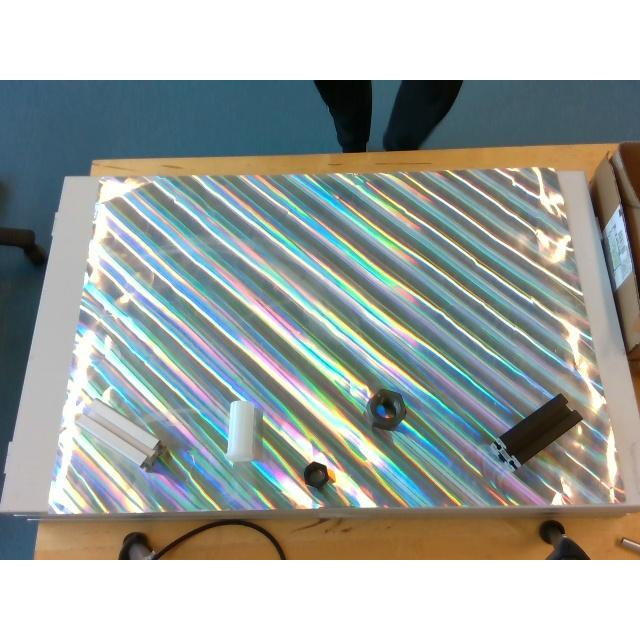M20: (304, 460, 330, 488)
M30: (366, 389, 406, 429)
S40_40_B: (491, 393, 582, 471)
S40_40_G: (77, 398, 166, 474)
Spacer: (226, 401, 256, 461)
